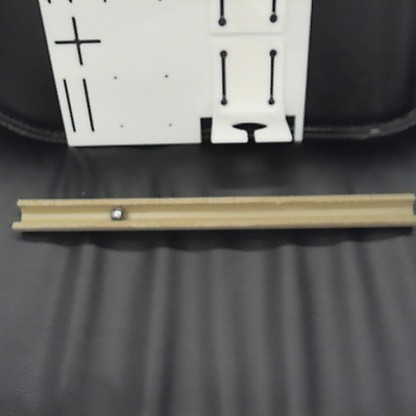ironball: (109, 203, 127, 220)
